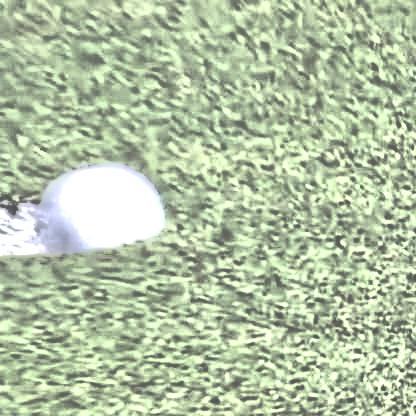golfball: (36, 177, 162, 268)
